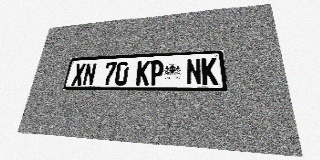0: (114, 61, 129, 85)
7: (102, 62, 117, 85)
K: (201, 58, 218, 85), (135, 60, 150, 85)
N: (186, 58, 202, 85), (82, 63, 97, 85)
P: (149, 60, 164, 85)
X: (71, 63, 86, 85)
